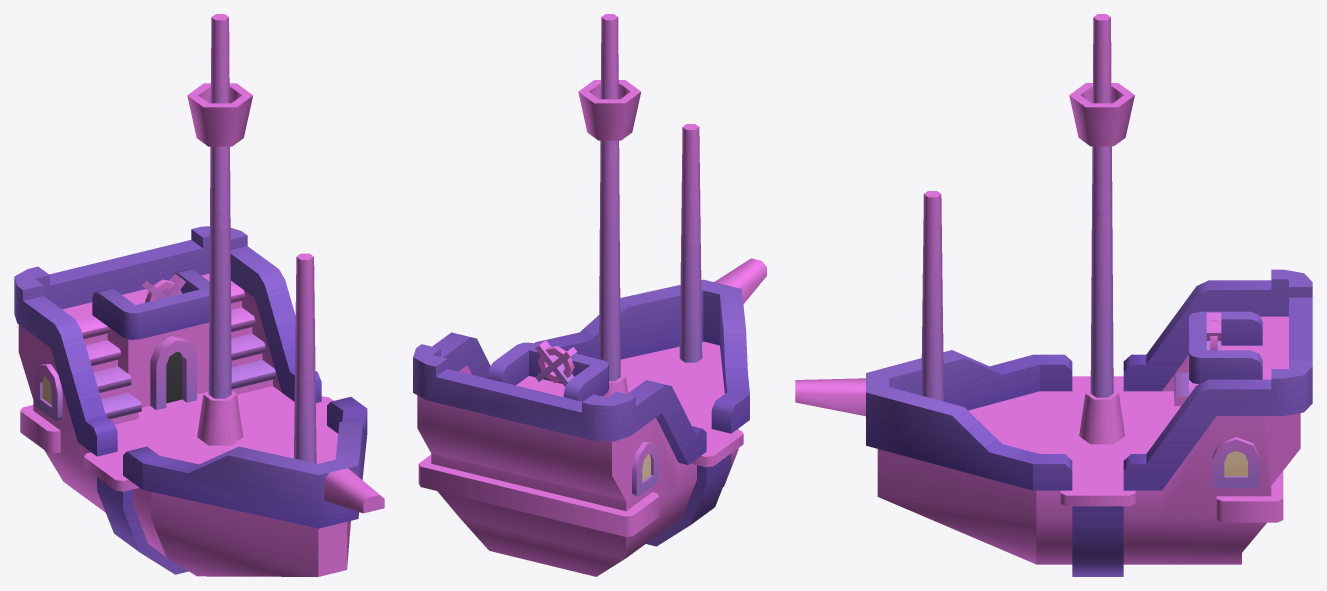
The model's file is ship_small_hull_pink.glb.
3 renders of one model, left to right at view 1: azimuth 30°, elevation 25°; view 2: azimuth 150°, elevation 25°; view 3: azimuth 270°, elevation 25°, orthographic. The views are drawn at different scales.
Visible parts, largest first — view 1: ship_small_pink; view 2: ship_small_pink; view 3: ship_small_pink.
Boxes of the visible parts, x1,y1,x2,y2 form: ship_small_pink: (14,14,384,576); ship_small_pink: (413,14,766,576); ship_small_pink: (795,14,1312,576).
Bounding box in the file's own units: 4.8 × 9.96 × 8.8.
Materials: 1 (1 with a texture image).
